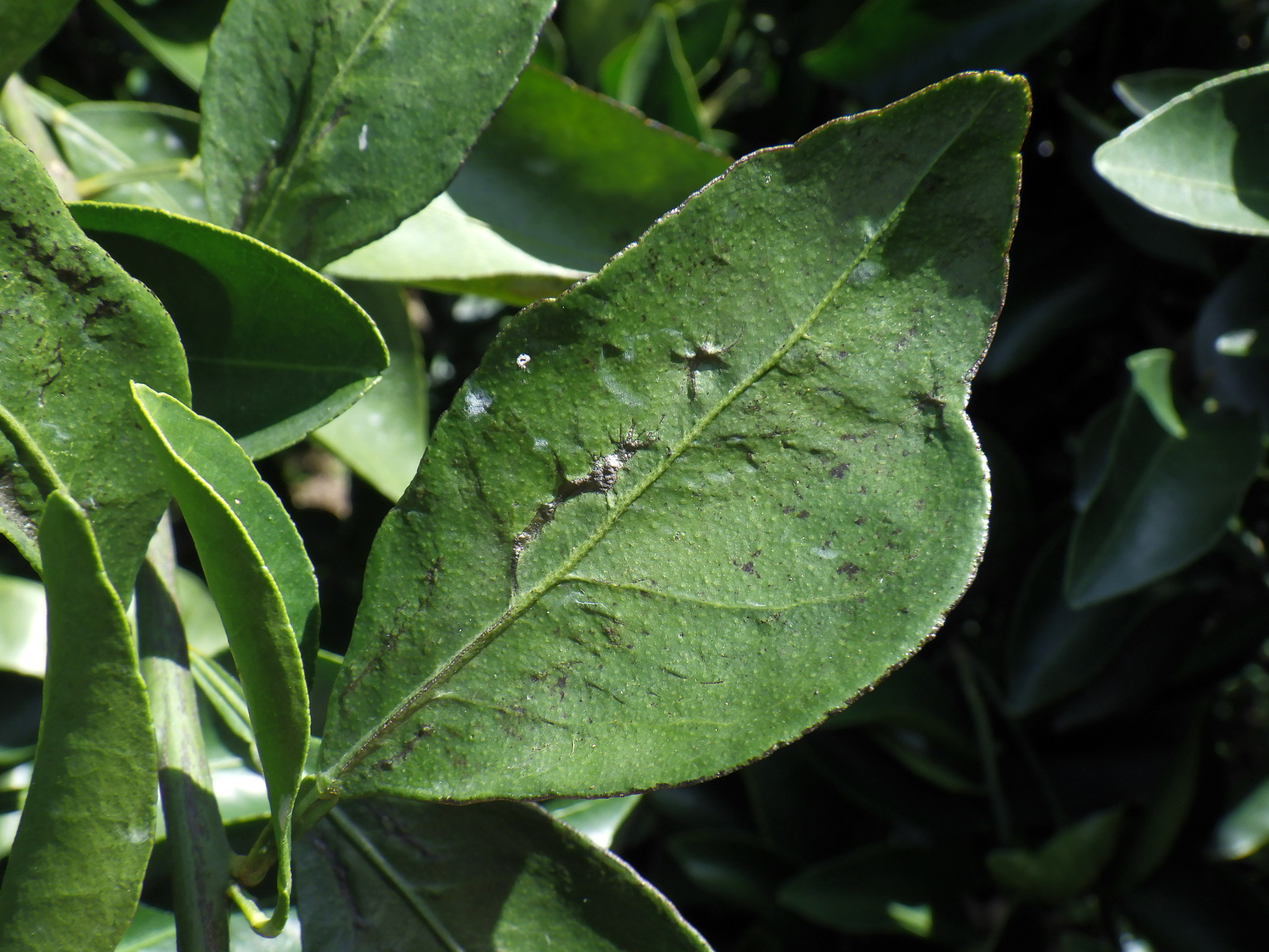Thrips_Damage: (519, 337, 957, 584)
